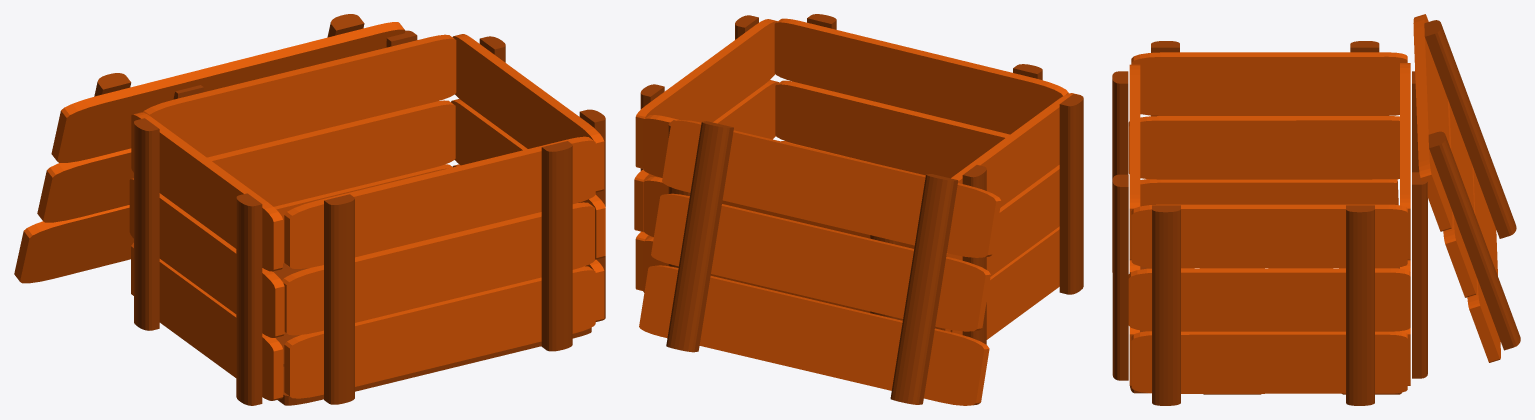
3 views of the same model, side by side, from view 1: azimuth 30°, elevation 25°; view 2: azimuth 150°, elevation 25°; view 3: azimuth 270°, elevation 25° (orthographic). The views are drawn at different scales.
Visible parts, largest first — view 1: Cube.168, Cube.171, Cube.170, Cube.169, Cube.167, Cube.188, Cube.174, Cube.177, Cube.176, Cube.181, Cube.180, Cube.175 (+11 smaller); view 2: Cube.186, Cube.187, Cube.188, Cube.171, Cube.170, Cube.190, Cube.189, Cube.174, Cube.177, Cube.184, Cube.175, Cube.176 (+6 smaller); view 3: Cube.177, Cube.176, Cube.173, Cube.174, Cube.172, Cube.175, Cube.182, Cube.183, Cube.189, Cube.190, Cube.188, Cube.181 (+7 smaller).
Boxes of the visible parts, x1,y1,x2,y2 form: Cube.168: (143, 34, 456, 157); Cube.171: (284, 136, 595, 268); Cube.170: (282, 202, 594, 335); Cube.169: (284, 266, 595, 398); Cube.167: (207, 100, 455, 206); Cube.188: (51, 22, 405, 162); Cube.174: (452, 34, 604, 192); Cube.177: (131, 112, 282, 271); Cube.176: (129, 178, 284, 337); Cube.181: (541, 141, 572, 351); Cube.180: (324, 194, 354, 404); Cube.175: (159, 259, 283, 400); Cube.186: (639, 265, 989, 405); Cube.187: (651, 193, 990, 331); Cube.188: (662, 120, 1001, 257); Cube.171: (774, 18, 1068, 134); Cube.170: (775, 80, 1009, 178); Cube.190: (666, 121, 733, 352); Cube.189: (890, 174, 958, 404); Cube.174: (635, 19, 777, 168); Cube.177: (951, 93, 1080, 207); Cube.184: (1059, 94, 1083, 294); Cube.175: (950, 226, 1059, 339); Cube.176: (946, 165, 1059, 276); Cube.177: (1131, 52, 1407, 115); Cube.176: (1128, 116, 1399, 179); Cube.173: (1128, 268, 1410, 331); Cube.174: (1131, 204, 1407, 267); Cube.172: (1131, 331, 1407, 393); Cube.175: (1140, 179, 1398, 206); Cube.182: (1346, 205, 1374, 405); Cube.183: (1152, 205, 1180, 405); Cube.189: (1424, 20, 1516, 238); Cube.190: (1428, 131, 1520, 350); Cube.188: (1413, 14, 1452, 231); Cube.181: (1112, 174, 1128, 380).
Size of the model in its own units: 500 by 252 by 435.
